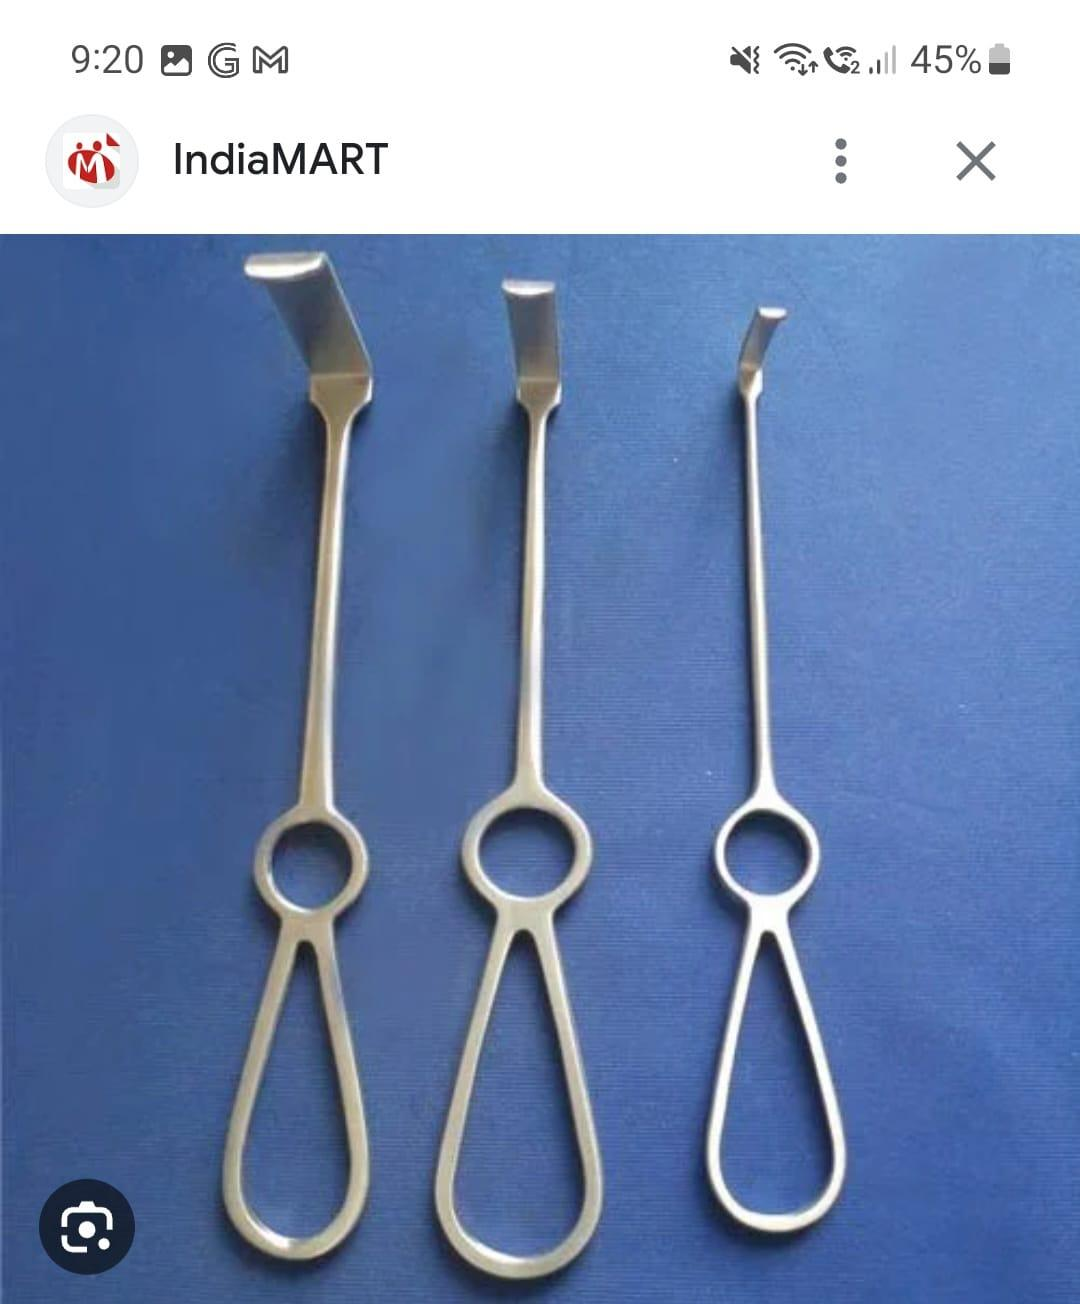Langenbach Retractor: (424, 268, 619, 1274), (208, 238, 378, 1270)
